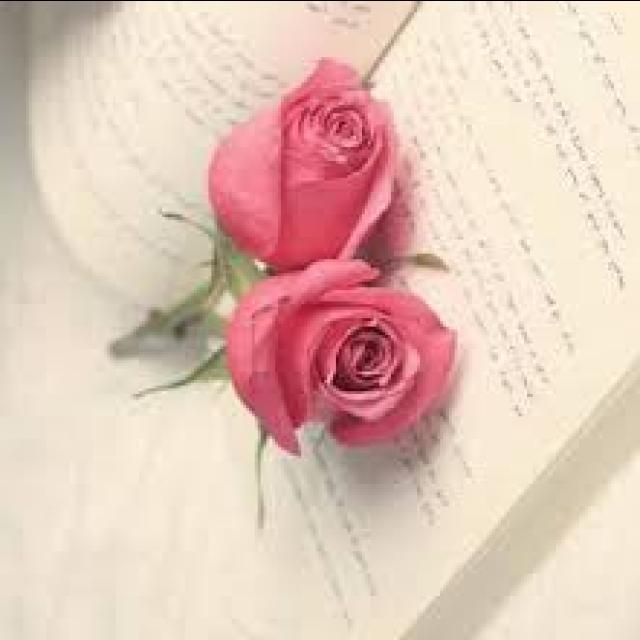rose: (214, 250, 454, 462)
